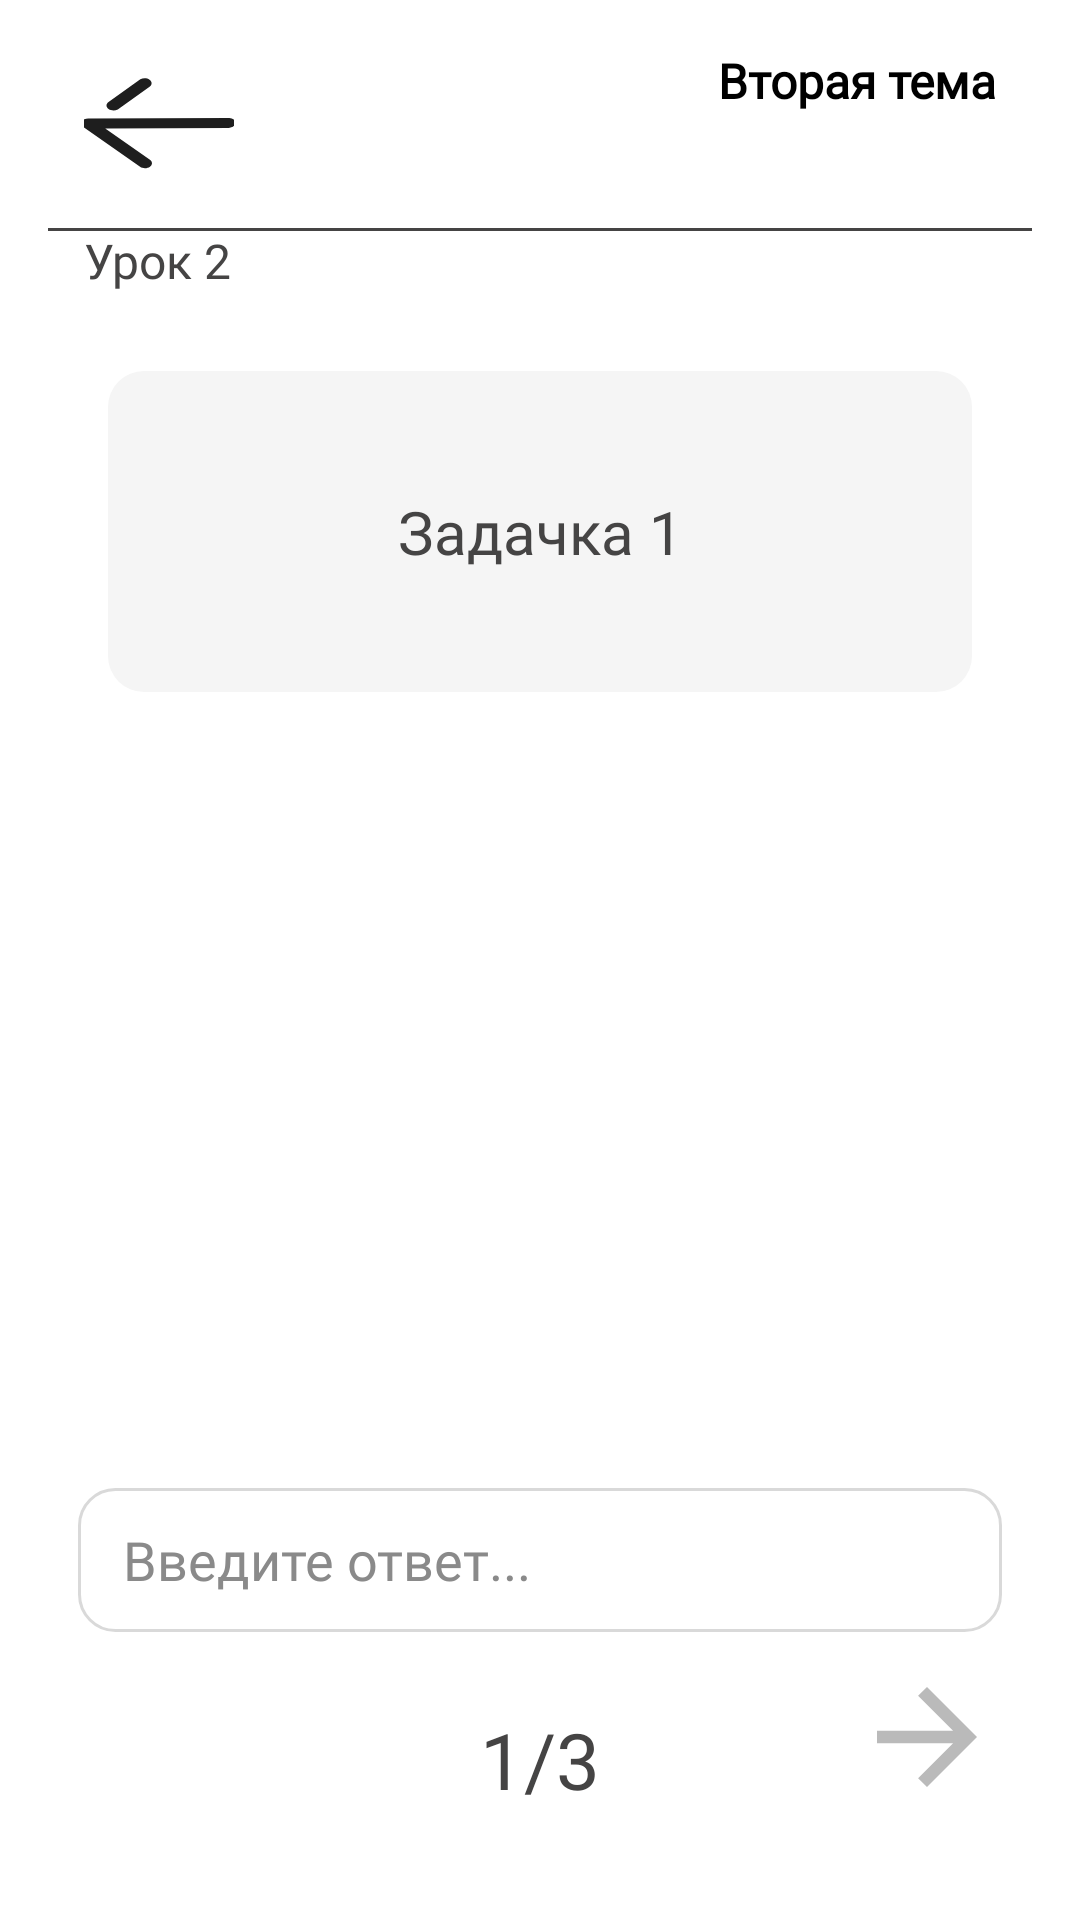

Where icons sit on this 1080×1920 app screen, as BBox(x1, y1, x2, y2):
class forward: BBox(877, 1687, 977, 1787)
strelka: BBox(84, 78, 234, 169)
